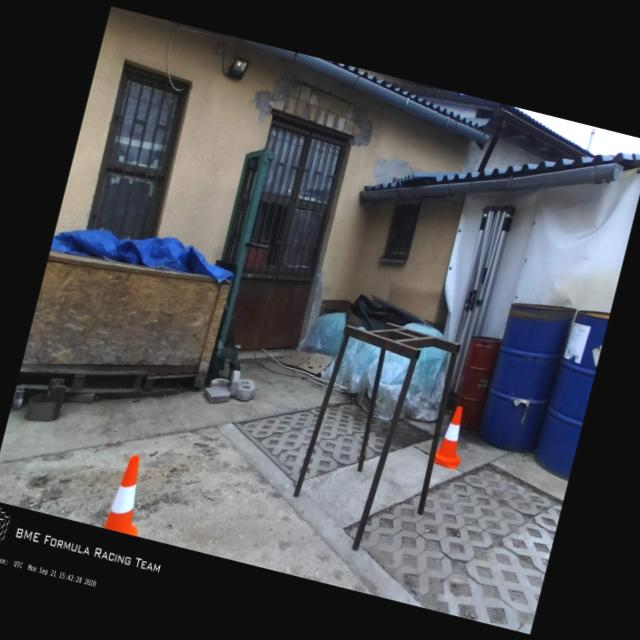orange_cone: (102, 452, 155, 536), (432, 404, 472, 469)
